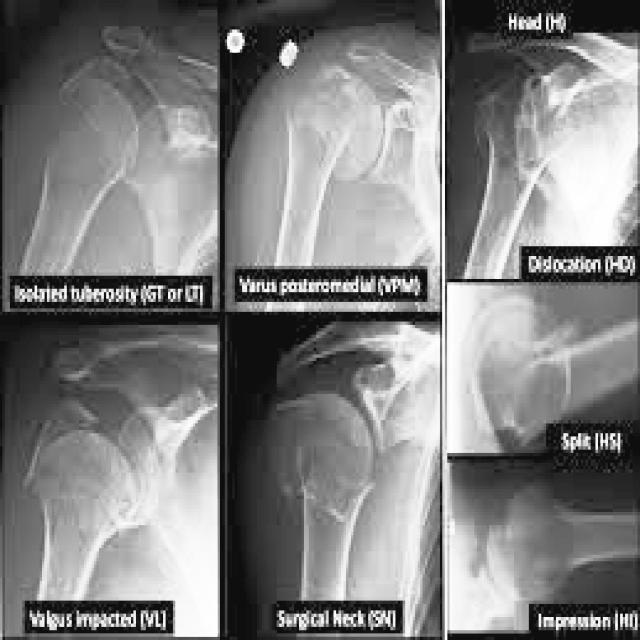Impact Fracture: (41, 66, 140, 160), (40, 358, 104, 491)
